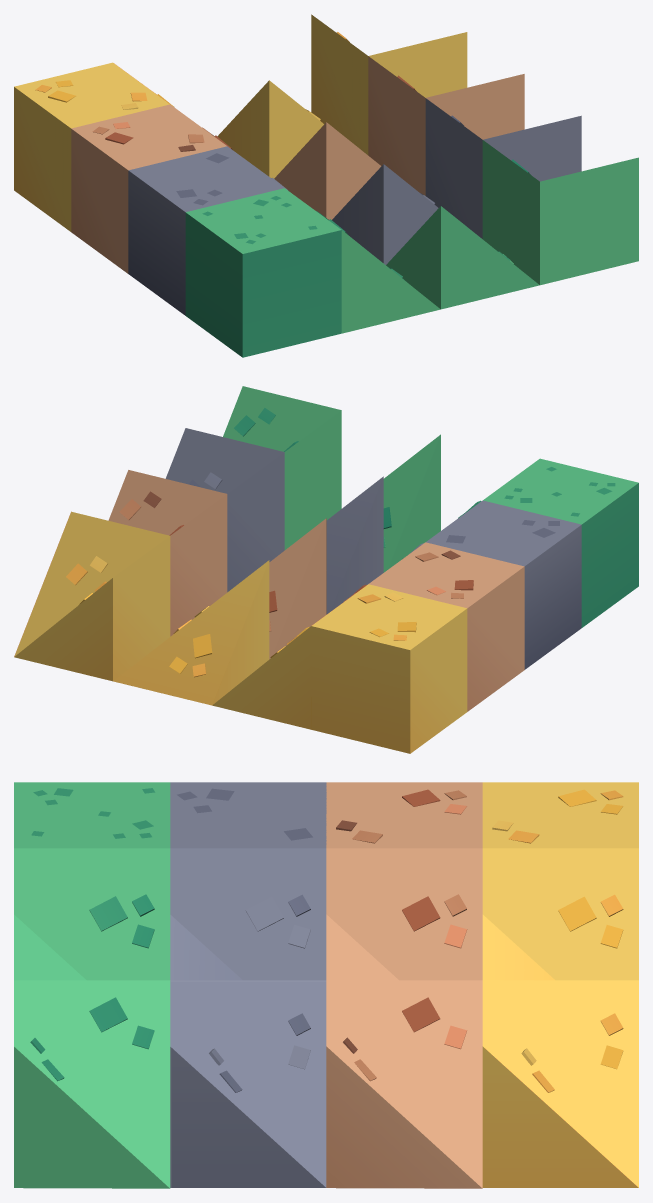
Rendered from base-tiles.glb.
The picture shows the model from 3 angles, top to bottom: view 1: azimuth 30°, elevation 25°; view 2: azimuth 150°, elevation 25°; view 3: azimuth 270°, elevation 25°; orthographic projection. The views are drawn at different scales.
Visible parts, largest first — view 1: grass, grass-flat-slope, construction-tile, sand, stone, construction-tile-flat-slope, sand-flat-slope, stone-flat-slope, grass-corner, stone-corner, sand-corner, construction-tile-corner (+1 smaller); view 2: sand, sand-flat-slope, construction-tile, stone, grass, sand-corner, construction-tile-flat-slope, stone-flat-slope, grass-flat-slope, construction-tile-corner, grass-corner, stone-corner (+1 smaller); view 3: grass-flat-slope, construction-tile-flat-slope, sand-flat-slope, stone-flat-slope, grass-slope, stone-slope, construction-tile-slope, sand-slope, construction-tile, sand, grass, stone (+4 smaller).
Boxes of the visible parts, bbox=[...] form: grass: bbox=[185, 188, 341, 357]; grass-flat-slope: bbox=[482, 140, 638, 285]; construction-tile: bbox=[71, 104, 226, 273]; sand: bbox=[14, 62, 169, 231]; stone: bbox=[128, 146, 283, 315]; construction-tile-flat-slope: bbox=[368, 56, 524, 195]; sand-flat-slope: bbox=[311, 14, 467, 155]; stone-flat-slope: bbox=[425, 98, 581, 238]; grass-corner: bbox=[386, 206, 539, 309]; stone-corner: bbox=[332, 164, 438, 264]; sand-corner: bbox=[217, 80, 323, 178]; construction-tile-corner: bbox=[274, 122, 381, 219]; sand: bbox=[311, 584, 467, 753]; sand-flat-slope: bbox=[14, 511, 170, 681]; construction-tile: bbox=[368, 542, 524, 711]; stone: bbox=[426, 500, 581, 669]; grass: bbox=[483, 458, 638, 627]; sand-corner: bbox=[113, 560, 269, 705]; construction-tile-flat-slope: bbox=[108, 470, 227, 636]; stone-flat-slope: bbox=[165, 428, 284, 592]; grass-flat-slope: bbox=[223, 386, 341, 549]; construction-tile-corner: bbox=[269, 518, 326, 659]; grass-corner: bbox=[383, 434, 440, 572]; stone-corner: bbox=[326, 476, 383, 614]; grass-flat-slope: bbox=[14, 980, 170, 1188]; construction-tile-flat-slope: bbox=[326, 980, 482, 1188]; sand-flat-slope: bbox=[482, 980, 638, 1187]; stone-flat-slope: bbox=[170, 980, 326, 1187]; grass-slope: bbox=[14, 848, 170, 980]; stone-slope: bbox=[170, 848, 326, 980]; construction-tile-slope: bbox=[326, 848, 482, 980]; sand-slope: bbox=[482, 848, 638, 980]; construction-tile: bbox=[326, 782, 482, 848]; sand: bbox=[482, 782, 638, 848]; grass: bbox=[14, 782, 170, 848]; stone: bbox=[170, 782, 326, 848].
Size of the model in its own units: 4 by 1.02 by 4.
Materials: 16 (16 with a texture image).
